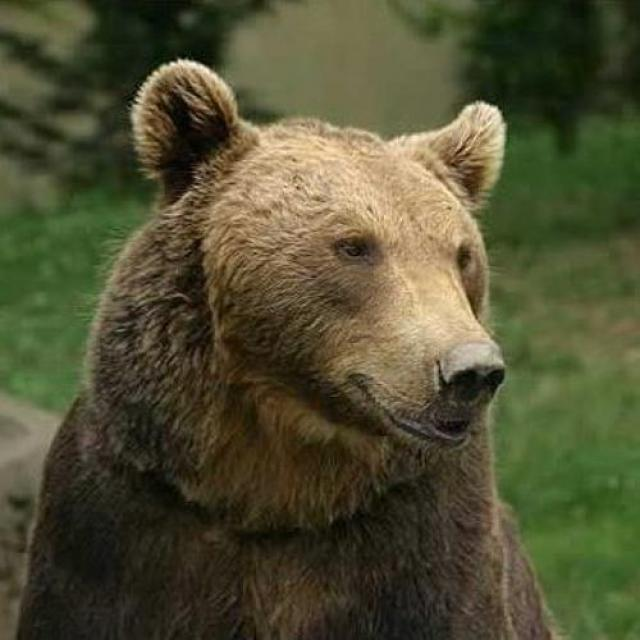Bear: (14, 59, 567, 640)
